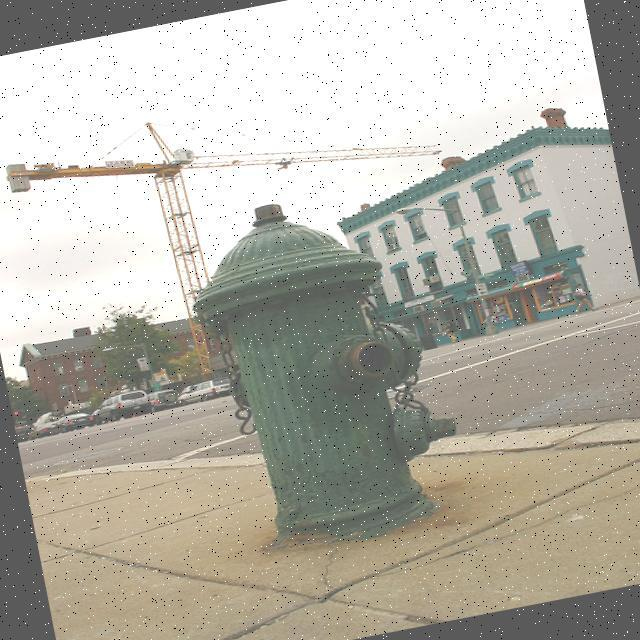fire_hydrant: (175, 175, 474, 562)
